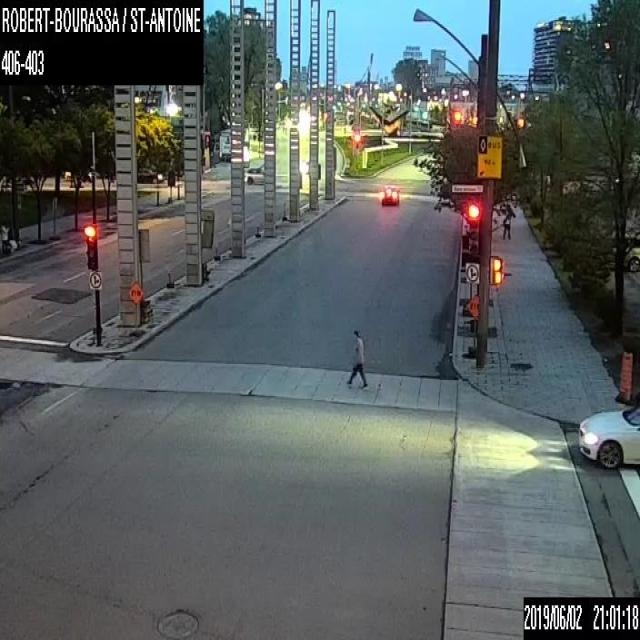construction: (464, 294, 480, 357), (126, 280, 144, 335), (614, 350, 633, 402)
pedestrian: (344, 329, 366, 388), (502, 202, 512, 239)
vehicle: (576, 402, 639, 470), (242, 165, 264, 184), (381, 184, 399, 205)
